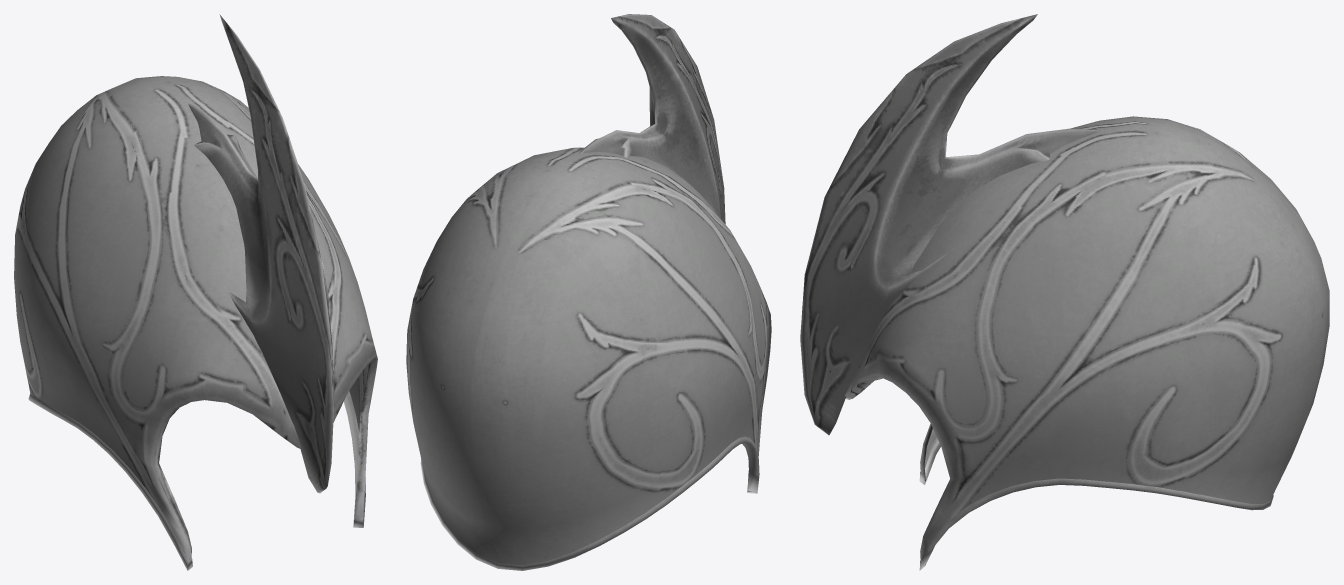
Rendered from rivendell_helmet_archer_tier1_silver.fbx.
The picture shows the model from 3 angles, left to right: view 1: azimuth 30°, elevation 25°; view 2: azimuth 150°, elevation 25°; view 3: azimuth 270°, elevation 25°; orthographic projection. The views are drawn at different scales.
Visible parts, largest first — view 1: rivendell_helmet_archer_tier1_silver.1, rivendell_helmet_archer_tier1_silver.0; view 2: rivendell_helmet_archer_tier1_silver.1, rivendell_helmet_archer_tier1_silver.0; view 3: rivendell_helmet_archer_tier1_silver.1, rivendell_helmet_archer_tier1_silver.0.
Part boxes in pixels (bbox=[...]): rivendell_helmet_archer_tier1_silver.1: bbox=[14, 76, 377, 570]; rivendell_helmet_archer_tier1_silver.0: bbox=[188, 14, 334, 493]; rivendell_helmet_archer_tier1_silver.1: bbox=[406, 147, 771, 570]; rivendell_helmet_archer_tier1_silver.0: bbox=[579, 14, 725, 223]; rivendell_helmet_archer_tier1_silver.1: bbox=[845, 116, 1329, 570]; rivendell_helmet_archer_tier1_silver.0: bbox=[800, 14, 1102, 435].
Bounding box in the file's own units: 0.1912 × 0.3005 × 0.321.
Materials: 2 (2 with a texture image).
